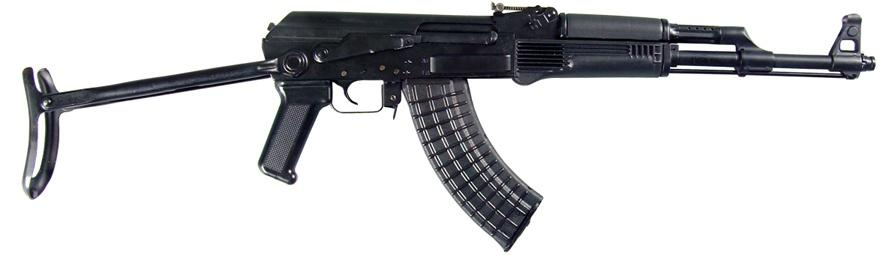blood: (13, 0, 878, 260)
